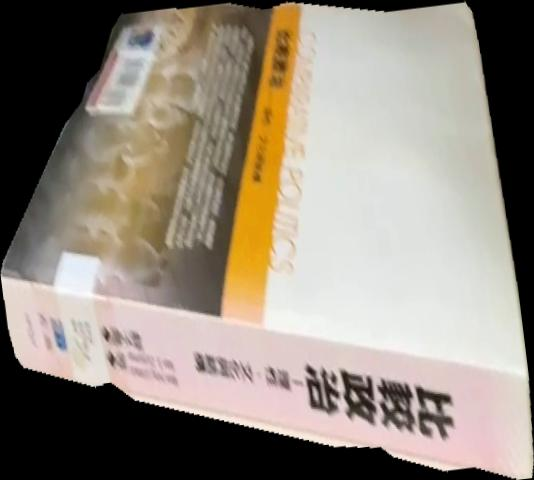flat: (1, 1, 534, 480)
